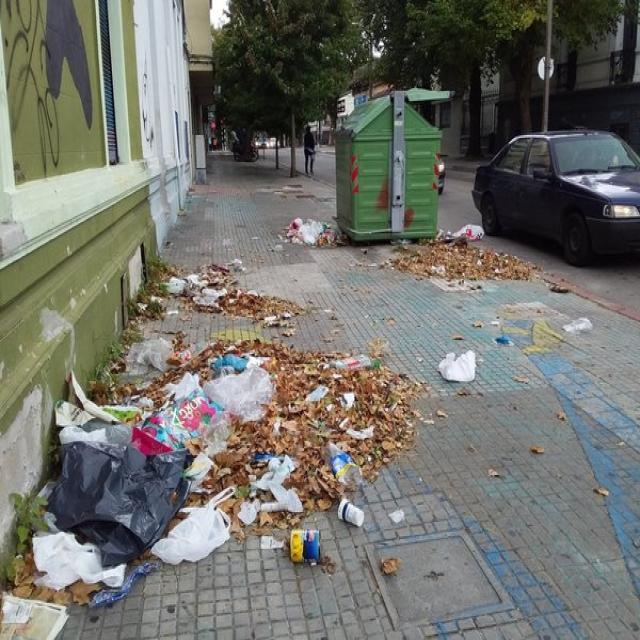garbage: (50, 384, 334, 609), (160, 265, 290, 324), (305, 452, 384, 544), (200, 342, 342, 380), (283, 202, 337, 262), (442, 328, 476, 406), (440, 216, 490, 245)
